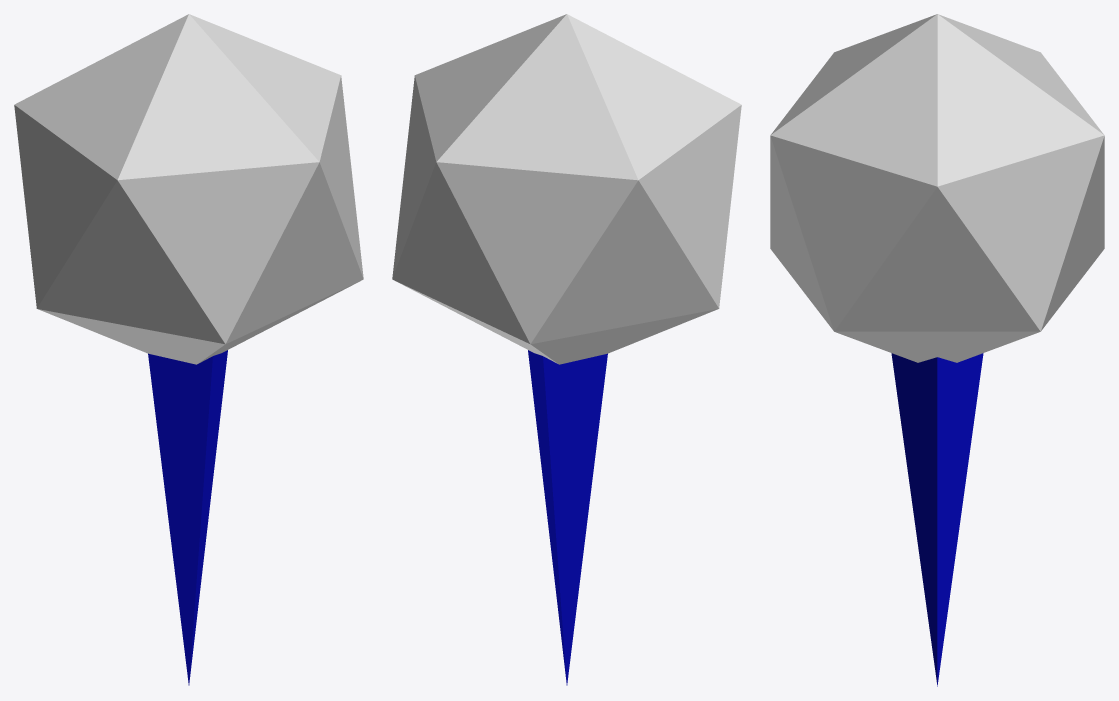
Rendered from Dandellion.fbx.
3 renders of one model, left to right at view 1: azimuth 30°, elevation 25°; view 2: azimuth 150°, elevation 25°; view 3: azimuth 270°, elevation 25°, orthographic.
Visible parts, largest first — view 1: Cone; view 2: Cone; view 3: Cone.
Part boxes in pixels (<box>): Cone: <box>14,14,363,685</box>; Cone: <box>392,14,741,685</box>; Cone: <box>770,14,1104,686</box>.
Bounding box in the file's own units: 17.89 × 37.79 × 17.01.
